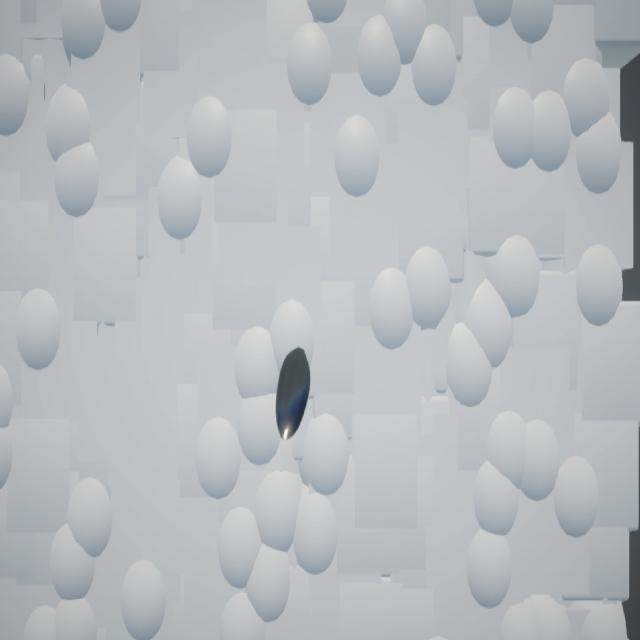top_spoon: (277, 348, 312, 442)
